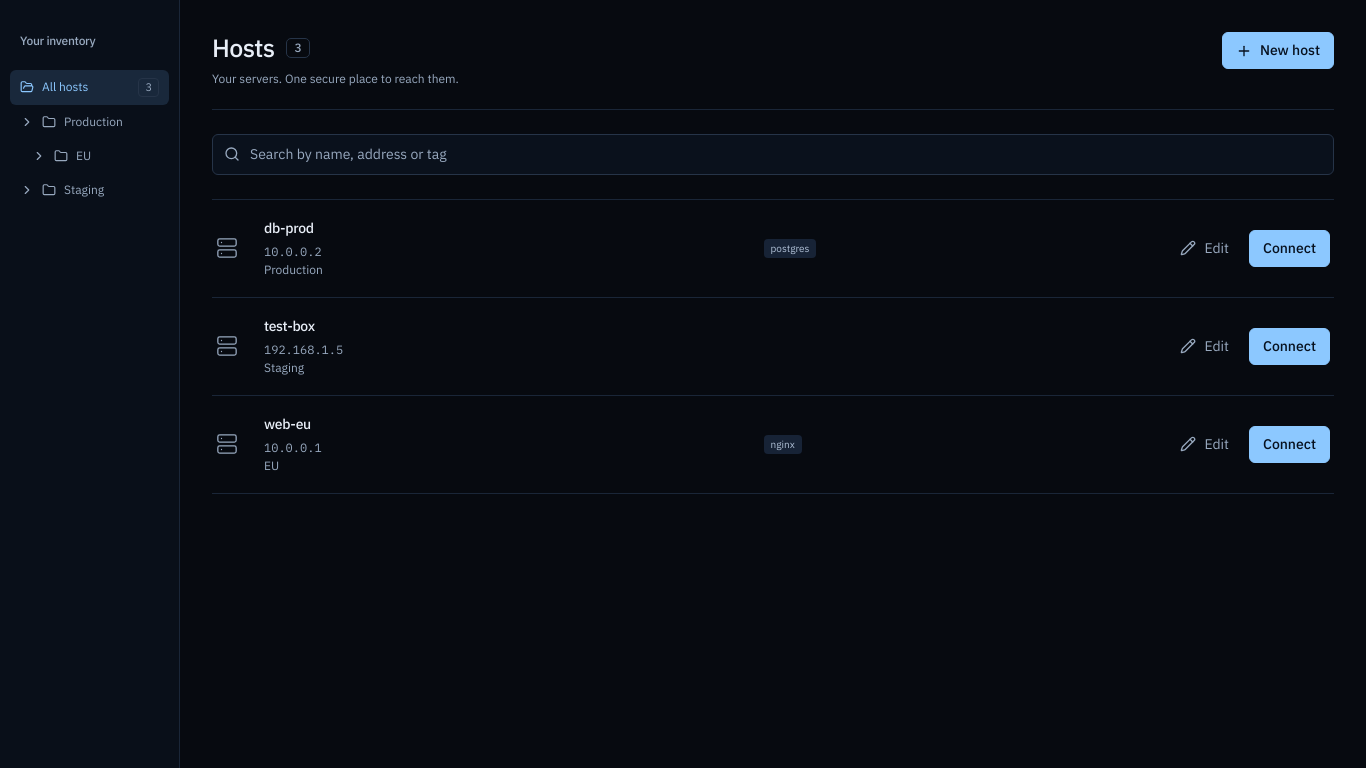
Test: connection errors are shown on the host
The image size is (1366, 768).
Click the button with aria-label "Connect to db-prod" at (1290, 248), box [1249, 230, 1330, 266]
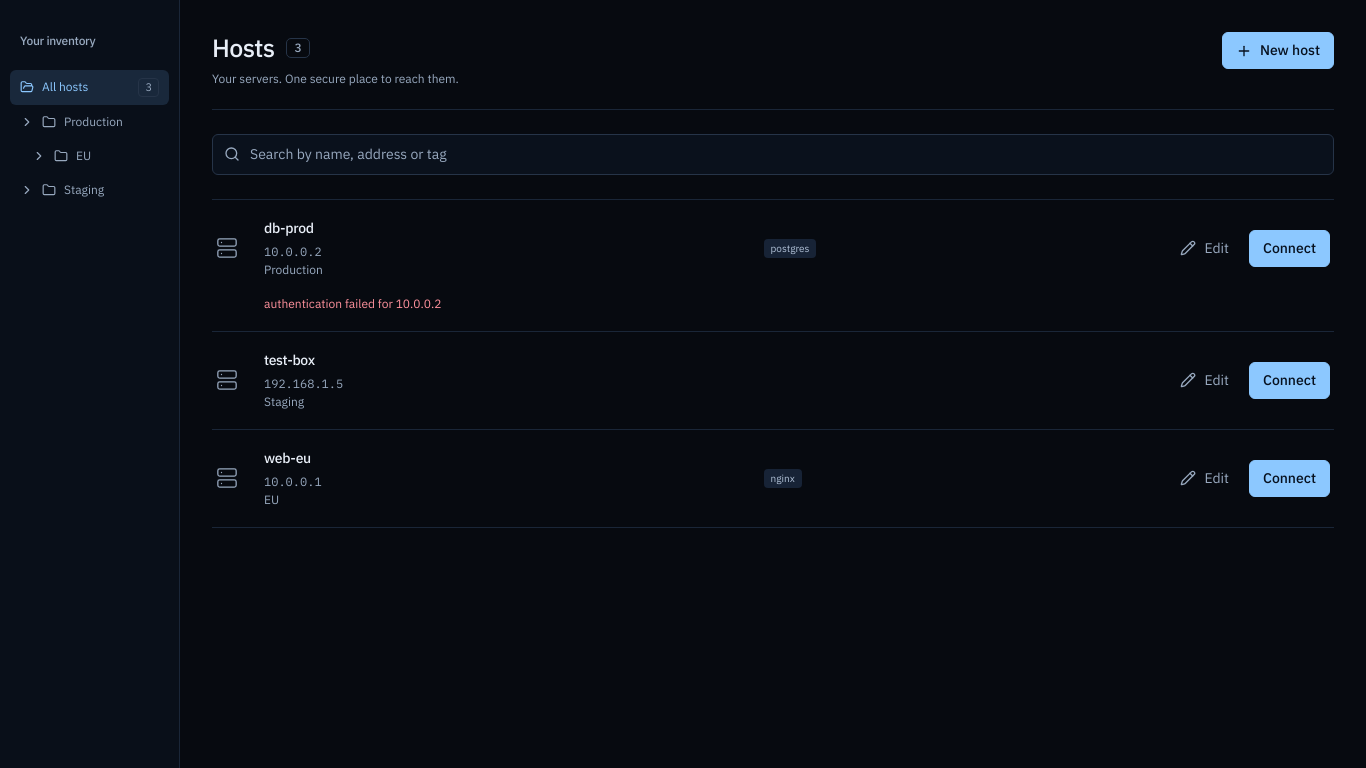
Now the message shows "authentication failed", box [264, 296, 441, 310]
